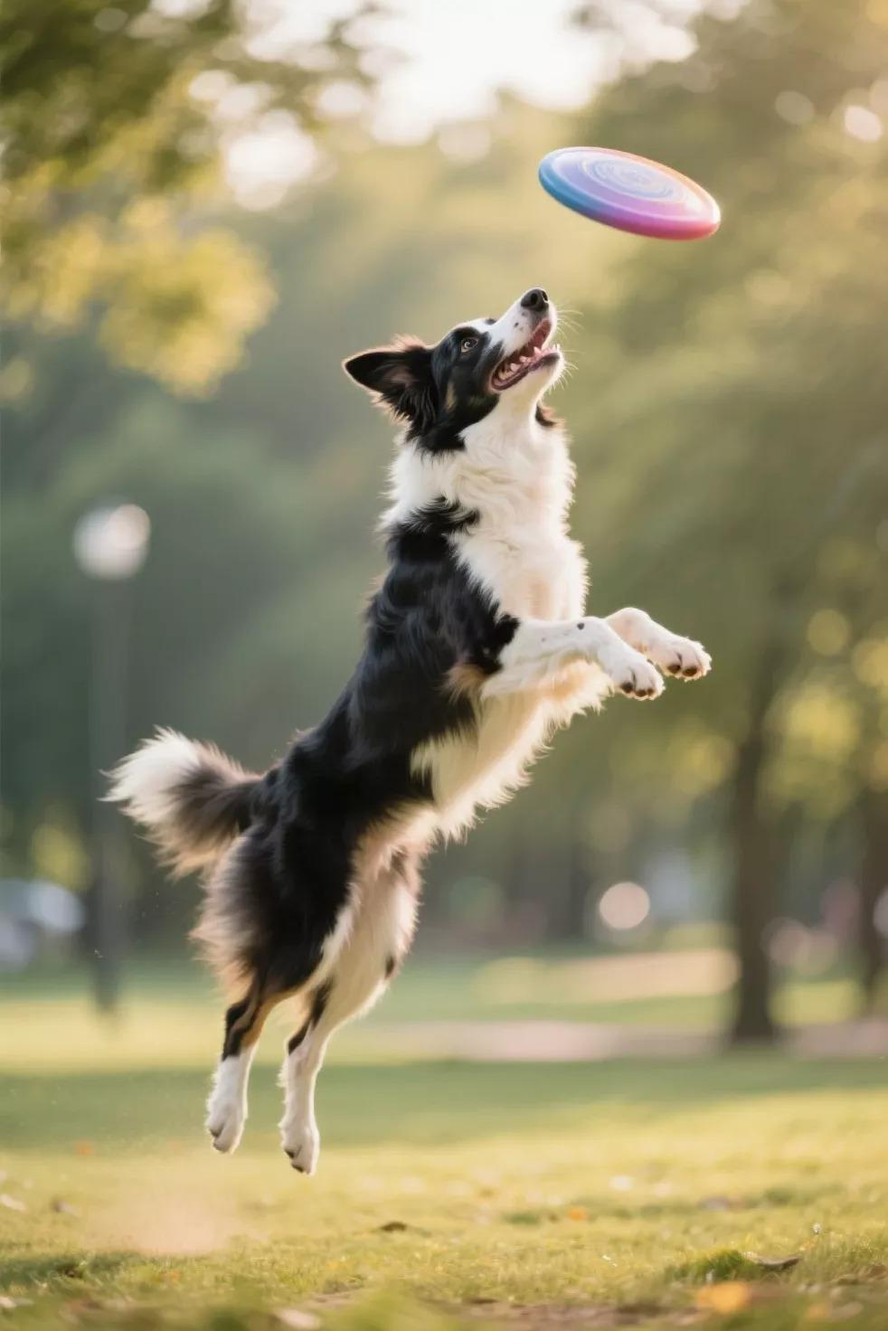adult_dog: (98, 286, 714, 1177)
non-dog: (536, 146, 723, 242)
